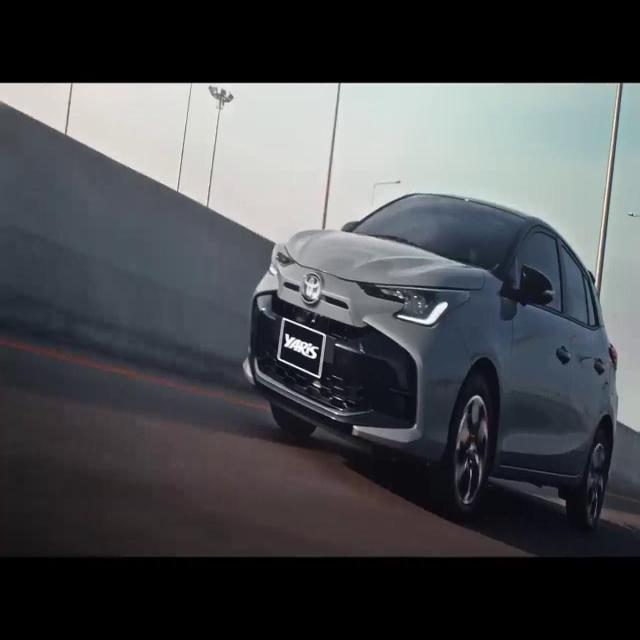Hatchback: (242, 193, 618, 528)
